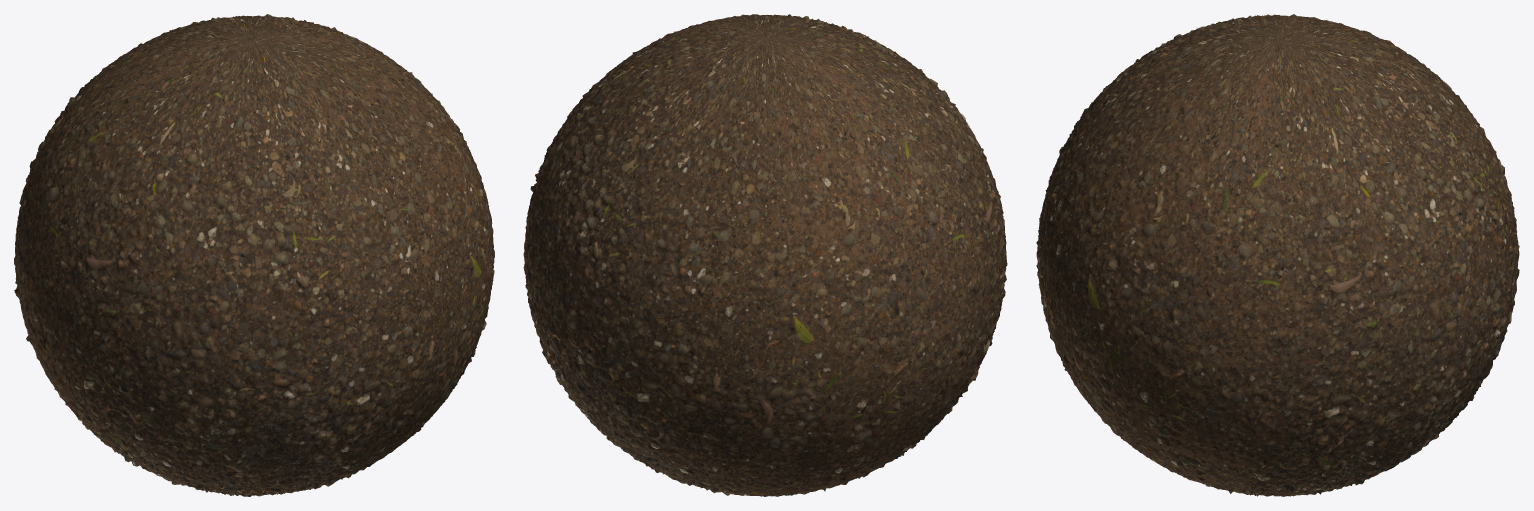
File: gravel_2k.gltf
The picture shows the model from 3 angles, left to right: view 1: azimuth 30°, elevation 25°; view 2: azimuth 150°, elevation 25°; view 3: azimuth 270°, elevation 25°; orthographic projection.
Parts seen in each view (by area): view 1: sphere_gltf; view 2: sphere_gltf; view 3: sphere_gltf.
Boxes of the visible parts, x1,y1,x2,y2 form: sphere_gltf: (14, 14, 494, 496); sphere_gltf: (523, 14, 1007, 496); sphere_gltf: (1036, 14, 1519, 496).
Size of the model in its own units: 2.01 by 2.02 by 2.02.
1 material, 1 textured.
